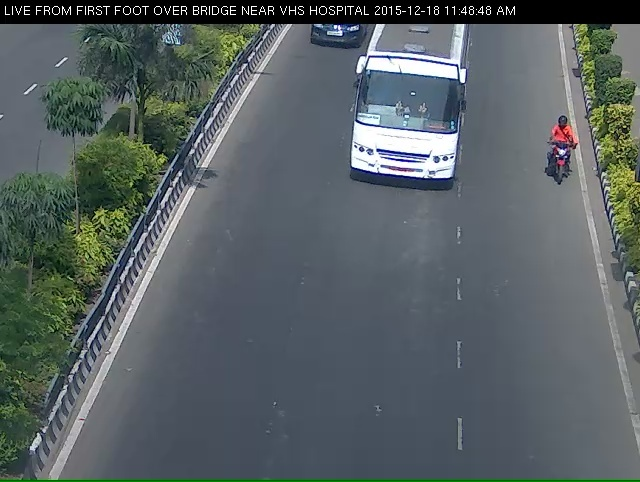Bus: (364, 22, 466, 202)
Car: (300, 24, 359, 58)
Person: (543, 122, 577, 196)
